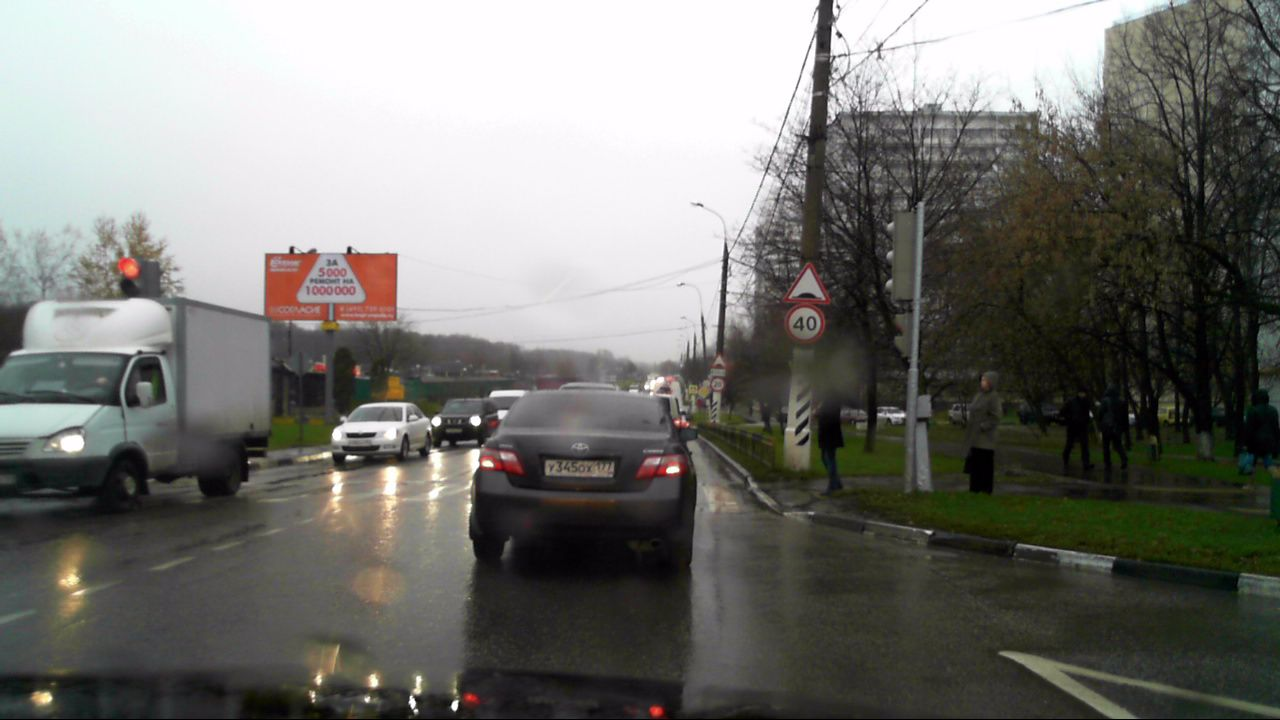speed_warning_40: (785, 304, 824, 342)
